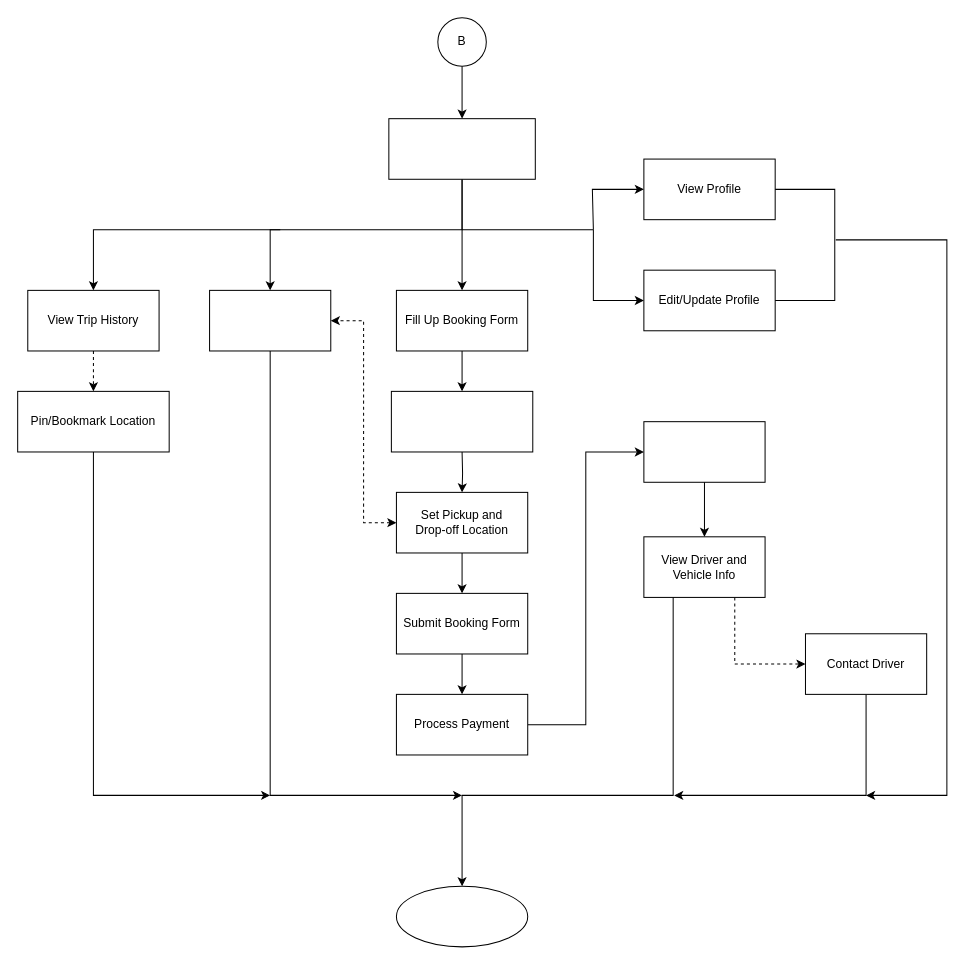
This 973x965 diagram has some shape labels left out. Here are the shapes that lost their labels. From the top down, the centre of each, then its label:
At point (461, 148): "Customer Dashboard".
At point (270, 320): "View Pinned Locations".
At point (461, 421): "Set Date and Time".
At point (704, 451): "View Notification from Driver".
At point (461, 916): "END".
